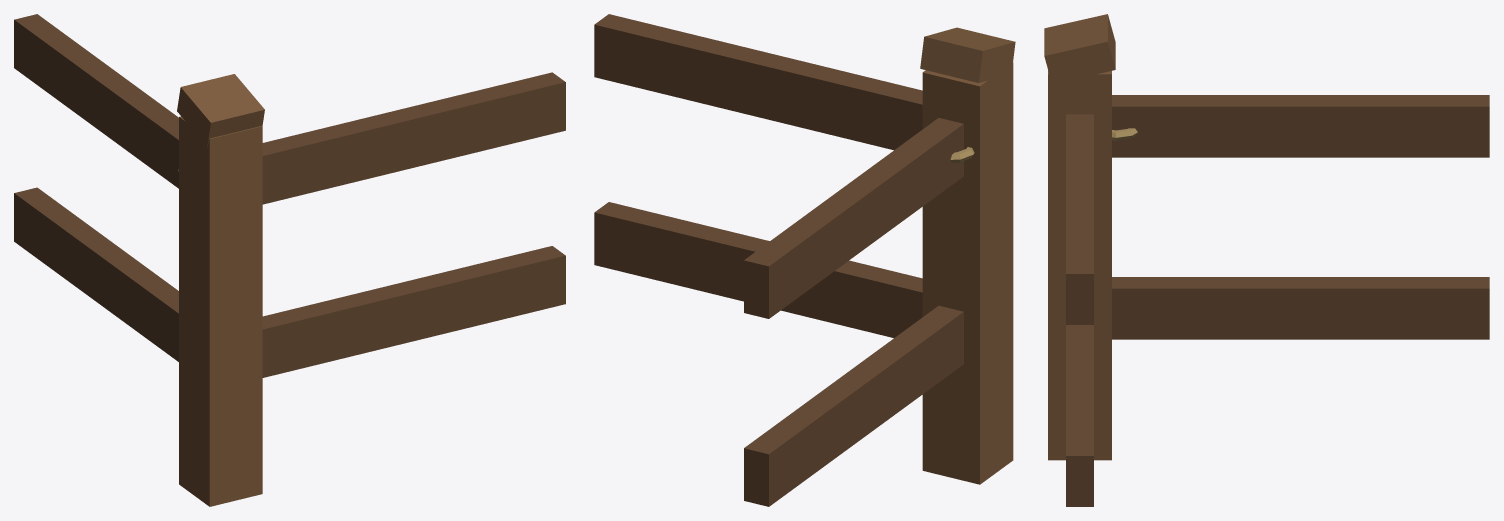
Rendered from SM_Fence_RusticRail_01_Corner.glb.
3 renders of one model, left to right at view 1: azimuth 30°, elevation 25°; view 2: azimuth 150°, elevation 25°; view 3: azimuth 270°, elevation 25°, orthographic. The views are drawn at different scales.
Visible parts, largest first — view 1: SM_Fence_RusticRail_01_Corner_Post, SM_Fence_RusticRail_01_Corner_RailBotX, SM_Fence_RusticRail_01_Corner_RailTopX, SM_Fence_RusticRail_01_Corner_RailBotY, SM_Fence_RusticRail_01_Corner_RailTopY, SM_Fence_RusticRail_01_Corner_Post_Cap; view 2: SM_Fence_RusticRail_01_Corner_Post, SM_Fence_RusticRail_01_Corner_RailTopX, SM_Fence_RusticRail_01_Corner_RailBotX, SM_Fence_RusticRail_01_Corner_RailBotY, SM_Fence_RusticRail_01_Corner_RailTopY, SM_Fence_RusticRail_01_Corner_Post_Cap; view 3: SM_Fence_RusticRail_01_Corner_RailBotY, SM_Fence_RusticRail_01_Corner_RailTopY, SM_Fence_RusticRail_01_Corner_Post, SM_Fence_RusticRail_01_Corner_RailTopX, SM_Fence_RusticRail_01_Corner_RailBotX, SM_Fence_RusticRail_01_Corner_Post_Cap.
Boxes of the visible parts, left/top/right/bottom form: SM_Fence_RusticRail_01_Corner_Post: left=179, top=116, right=262, bottom=506; SM_Fence_RusticRail_01_Corner_RailBotX: left=262, top=246, right=565, bottom=377; SM_Fence_RusticRail_01_Corner_RailTopX: left=262, top=72, right=565, bottom=204; SM_Fence_RusticRail_01_Corner_RailBotY: left=14, top=187, right=178, bottom=361; SM_Fence_RusticRail_01_Corner_RailTopY: left=14, top=14, right=178, bottom=188; SM_Fence_RusticRail_01_Corner_Post_Cap: left=177, top=74, right=264, bottom=146; SM_Fence_RusticRail_01_Corner_Post: left=922, top=62, right=1013, bottom=484; SM_Fence_RusticRail_01_Corner_RailTopX: left=594, top=14, right=922, bottom=150; SM_Fence_RusticRail_01_Corner_RailBotX: left=594, top=202, right=922, bottom=337; SM_Fence_RusticRail_01_Corner_RailBotY: left=744, top=305, right=963, bottom=506; SM_Fence_RusticRail_01_Corner_RailTopY: left=744, top=118, right=963, bottom=318; SM_Fence_RusticRail_01_Corner_Post_Cap: left=920, top=27, right=1015, bottom=82; SM_Fence_RusticRail_01_Corner_RailBotY: left=1112, top=277, right=1489, bottom=339; SM_Fence_RusticRail_01_Corner_RailTopY: left=1112, top=95, right=1489, bottom=157; SM_Fence_RusticRail_01_Corner_Post: left=1048, top=70, right=1111, bottom=460; SM_Fence_RusticRail_01_Corner_RailTopX: left=1066, top=114, right=1093, bottom=324; SM_Fence_RusticRail_01_Corner_RailBotX: left=1066, top=325, right=1093, bottom=506; SM_Fence_RusticRail_01_Corner_Post_Cap: left=1044, top=14, right=1115, bottom=84.
Size of the model in its own units: 1.1 by 1.15 by 1.11.
